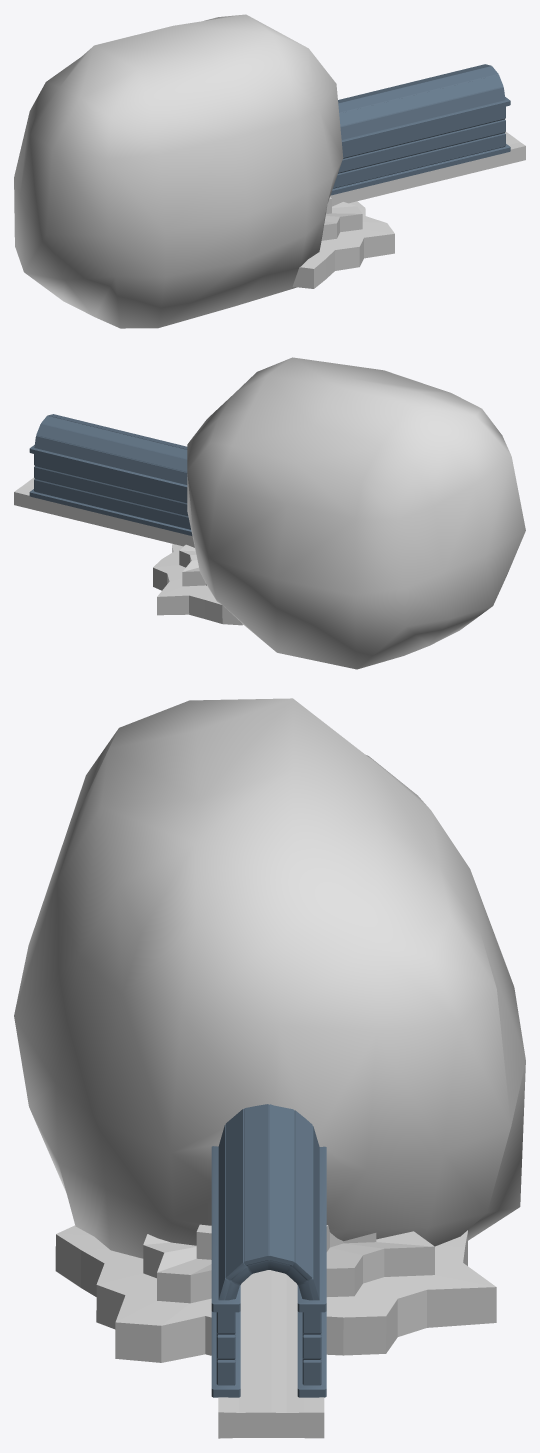
The model's file is TutorialNew.fbx.
3 views of the same model, one above another, from view 1: azimuth 30°, elevation 25°; view 2: azimuth 150°, elevation 25°; view 3: azimuth 270°, elevation 25° (orthographic). The views are drawn at different scales.
Visible parts, largest first — view 1: Cube.007, Pintu.001, Cylinder.006; view 2: Cube.007, Pintu.001, Cylinder.006; view 3: Cube.007, Cylinder.006, Pintu.001.
Part boxes in pixels (x1,y1,x2,y2): Cube.007: [14, 14, 343, 328]; Pintu.001: [330, 64, 510, 195]; Cylinder.006: [292, 132, 525, 288]; Cube.007: [187, 357, 525, 669]; Pintu.001: [29, 414, 192, 535]; Cylinder.006: [14, 477, 243, 625]; Cube.007: [14, 698, 525, 1258]; Cylinder.006: [55, 1224, 496, 1438]; Pintu.001: [211, 1104, 326, 1397].
Size of the model in its own units: 7610 by 3471 by 3677.
